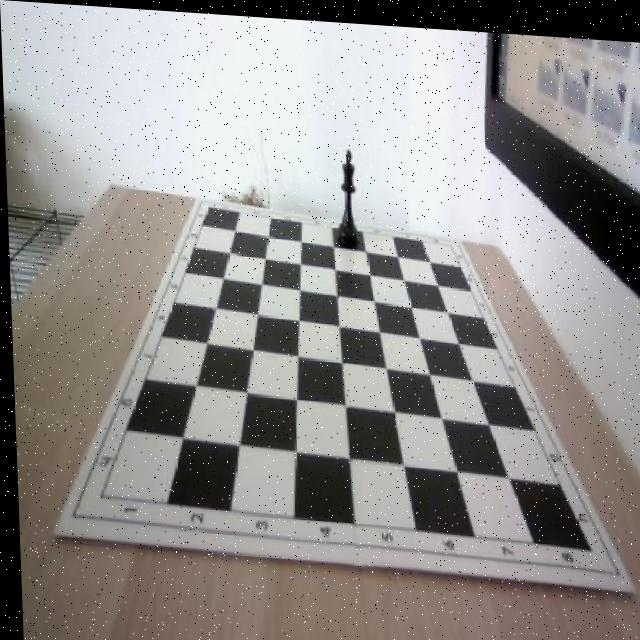black-bishop: (333, 145, 360, 244)
